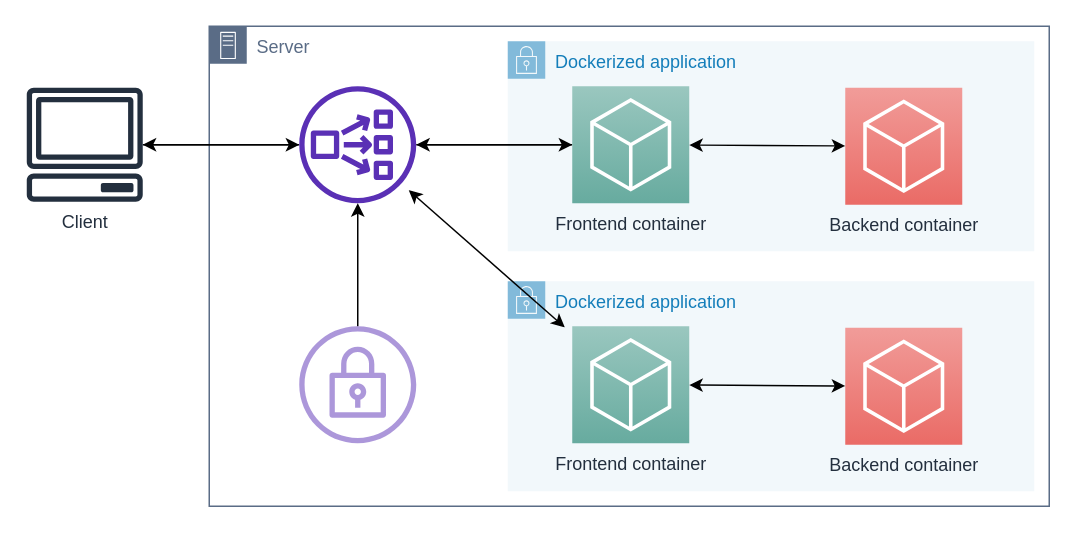
The diagram is 1076 pixels wide and 533 high, and some of its shapes have lost their labels. Each missing label, with the centre of its shape:
"Let's Encrypt SSL companion" belongs at pixel 357 384.
"NGINX Reverse Proxy" belongs at pixel 357 144.
